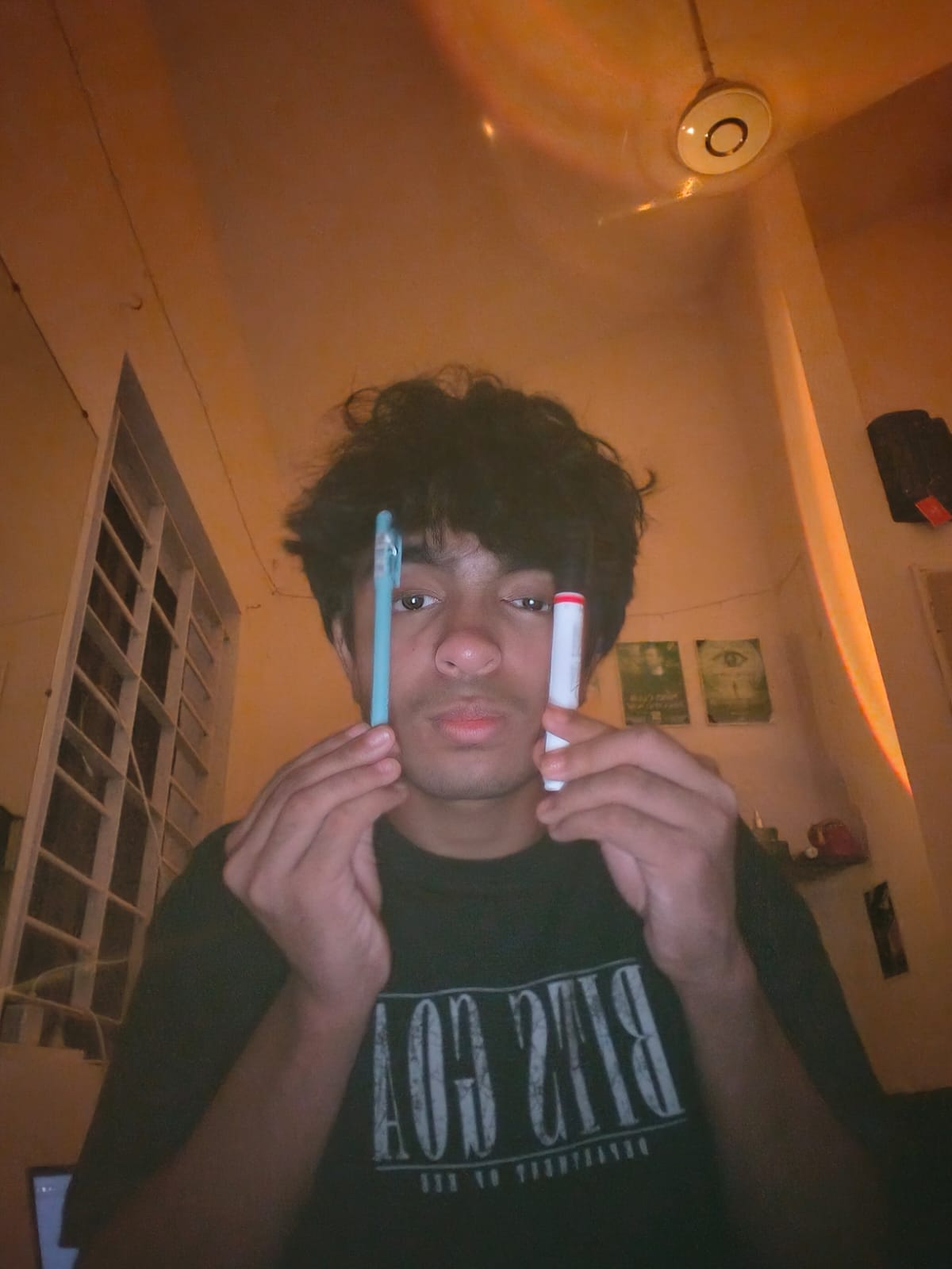case: (532, 517, 604, 795)
pen: (363, 503, 407, 741)
